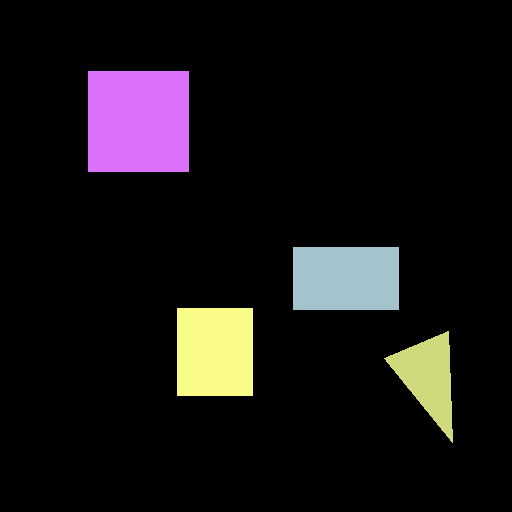rectangle: (177, 308, 252, 395), (293, 247, 398, 309)
square: (88, 71, 188, 171)
triangle: (384, 331, 452, 442)
